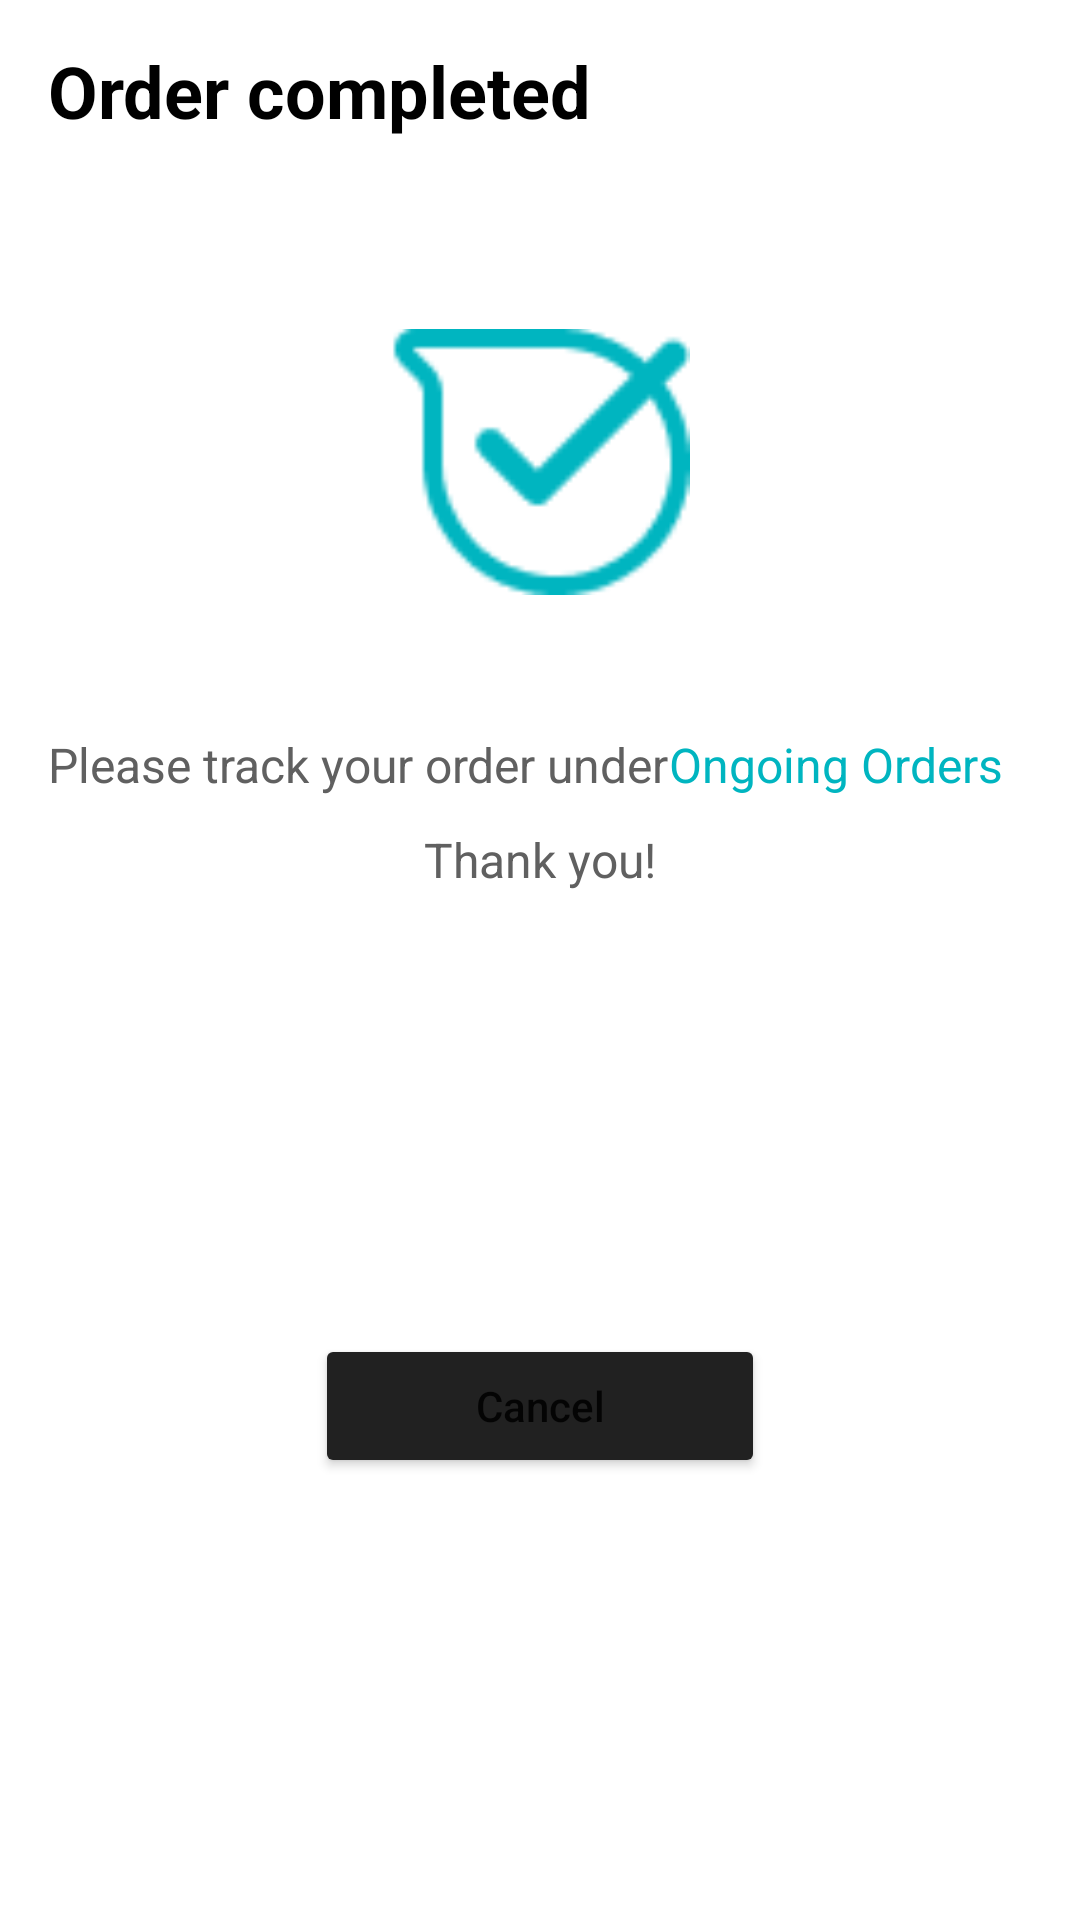

Locate icon controls on the screen. Image size 1080px×1920px, boxes as (x1, y1, x2, y2).
order complete: (393, 329, 690, 595)
